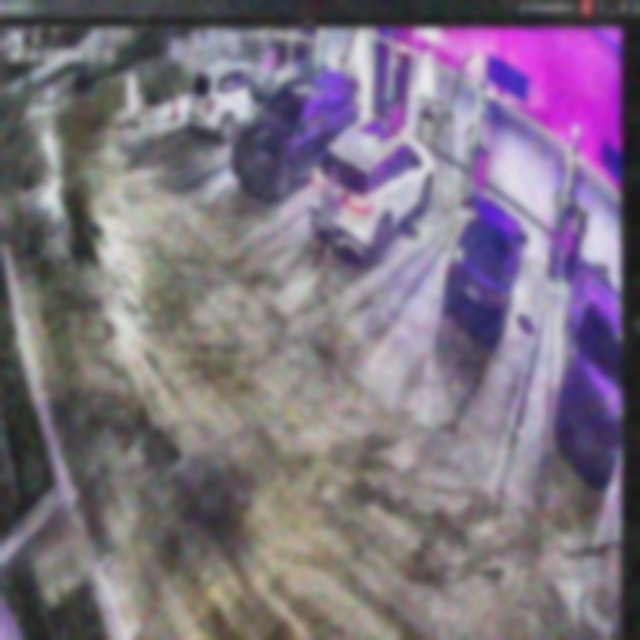Car: (313, 117, 434, 262), (234, 68, 359, 196), (442, 198, 529, 341)
